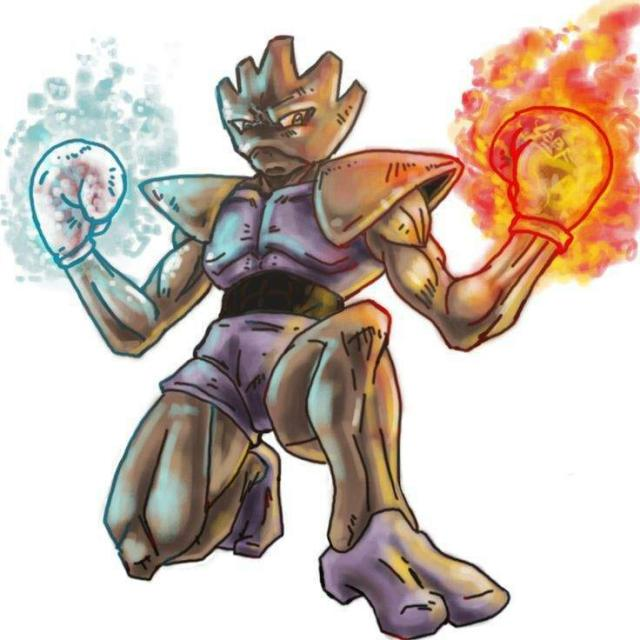Hitmonchan: (83, 35, 506, 581)
